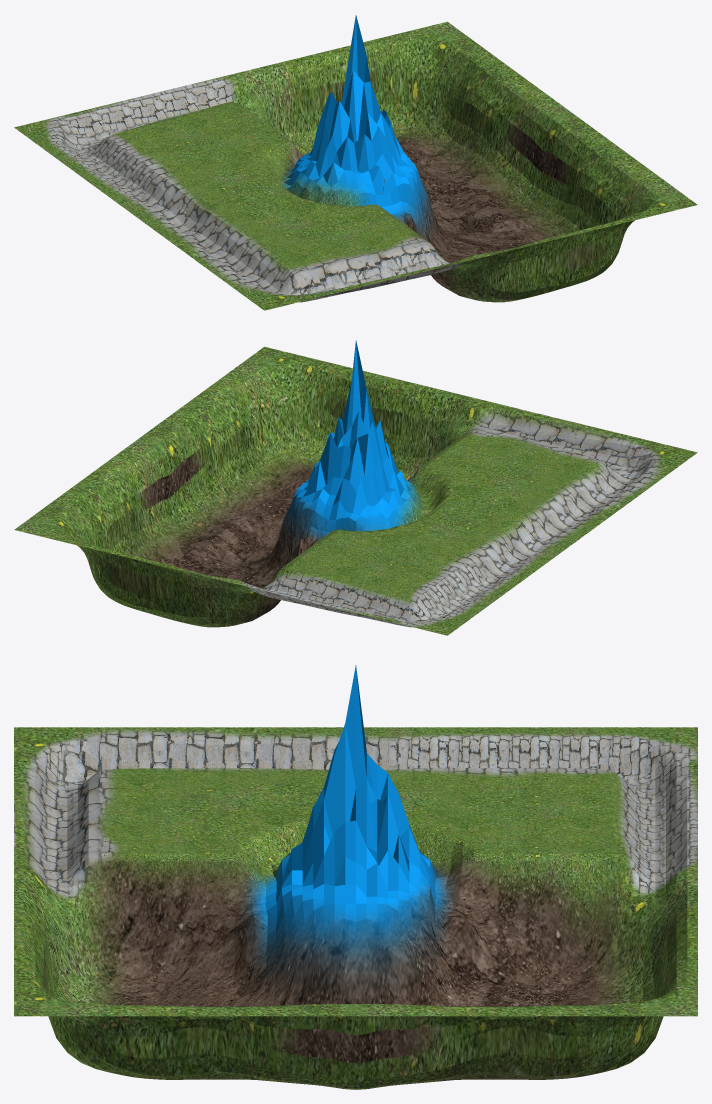
File: wackterrain.glb
3 views of the same model, one above another, from view 1: azimuth 30°, elevation 25°; view 2: azimuth 150°, elevation 25°; view 3: azimuth 270°, elevation 25° (orthographic). The views are drawn at different scales.
Parts seen in each view (by area): view 1: Plane; view 2: Plane; view 3: Plane.
Boxes of the visible parts, x1,y1,x2,y2 form: Plane: (14,15,697,310); Plane: (14,340,697,635); Plane: (14,665,697,1089).
Bounding box in the file's own units: 200 × 106 × 200.
1 material, 1 textured.
